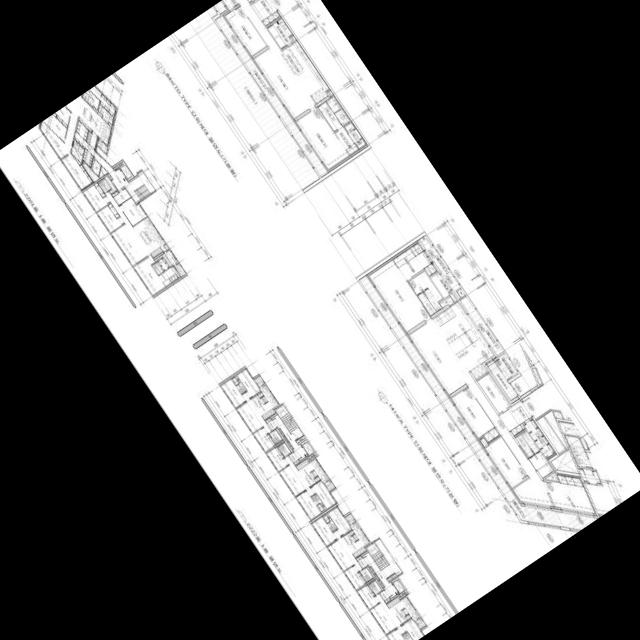space_balconi: (359, 275, 598, 530), (215, 15, 328, 177), (419, 235, 461, 299), (460, 296, 504, 356), (97, 138, 108, 154), (174, 263, 186, 277), (214, 1, 226, 14)
space_bedroom: (367, 258, 430, 333), (295, 107, 351, 172), (451, 387, 500, 443), (479, 437, 528, 488), (544, 473, 597, 515), (223, 6, 267, 56), (477, 373, 511, 413), (133, 255, 166, 296), (61, 154, 94, 190), (119, 197, 147, 226), (310, 481, 337, 510), (220, 378, 246, 408), (311, 516, 337, 546), (296, 491, 322, 521), (97, 206, 125, 233), (83, 185, 111, 212), (236, 368, 261, 398), (327, 506, 352, 536), (43, 113, 67, 142), (344, 565, 367, 590), (253, 427, 276, 452), (266, 447, 289, 471), (357, 585, 380, 609), (401, 619, 424, 640), (55, 106, 71, 128), (387, 629, 405, 640), (108, 203, 120, 218), (223, 0, 239, 11), (94, 183, 106, 197)
space_dressroom: (409, 240, 438, 276), (392, 247, 423, 280), (335, 128, 360, 157), (344, 122, 368, 151), (100, 94, 116, 118), (165, 266, 180, 282), (158, 258, 169, 271)
space_elevator: (391, 578, 408, 597), (300, 440, 317, 459), (118, 161, 134, 181)
space_elevator_hall: (95, 152, 155, 203), (363, 539, 402, 598), (272, 415, 307, 460)
space_front: (523, 418, 557, 460), (499, 399, 532, 436), (251, 0, 281, 26), (75, 131, 95, 156), (112, 188, 131, 205), (76, 121, 88, 141), (83, 148, 93, 168), (265, 418, 277, 431), (356, 556, 368, 569), (289, 452, 300, 465), (380, 590, 391, 603)
space_kitchen: (432, 301, 496, 380), (281, 41, 330, 104), (78, 98, 112, 146), (133, 217, 167, 258), (341, 522, 370, 558), (251, 384, 280, 420), (387, 596, 420, 625), (296, 458, 329, 487)
space_living_room: (408, 319, 554, 508), (237, 0, 316, 119), (105, 192, 150, 266), (40, 96, 82, 159), (327, 531, 362, 571), (370, 594, 405, 634), (279, 456, 314, 496), (237, 393, 271, 433)
space_multipurpose_space: (431, 272, 458, 302), (267, 18, 293, 49)
space_other: (522, 369, 572, 420), (488, 362, 517, 400), (537, 416, 566, 454), (544, 411, 568, 449), (551, 450, 579, 473), (98, 104, 114, 125), (84, 163, 100, 182), (162, 250, 178, 267), (86, 131, 98, 150), (105, 176, 117, 194), (532, 368, 542, 385), (440, 296, 454, 308), (92, 159, 101, 176), (276, 428, 285, 440), (99, 166, 108, 178), (545, 473, 558, 481), (375, 579, 384, 590), (93, 106, 102, 117), (367, 566, 375, 578), (285, 441, 293, 452), (73, 155, 81, 165), (553, 411, 563, 419), (457, 289, 465, 297), (387, 574, 396, 581), (296, 436, 305, 443), (155, 255, 162, 261), (290, 35, 296, 42), (327, 90, 333, 97), (288, 442, 293, 449), (370, 567, 375, 574), (279, 429, 284, 436), (379, 580, 384, 587), (108, 122, 113, 128), (258, 392, 263, 398), (284, 436, 289, 442), (349, 530, 354, 536), (375, 574, 380, 580), (107, 174, 112, 180), (164, 244, 169, 250), (315, 477, 320, 482), (406, 615, 411, 620), (323, 506, 327, 511), (113, 166, 118, 170), (234, 375, 238, 379), (325, 513, 329, 517), (307, 456, 310, 460), (398, 594, 401, 598)
space_outdoor_room: (496, 353, 518, 380), (324, 480, 335, 491), (345, 514, 356, 525), (254, 376, 265, 387), (415, 618, 426, 629)
space_staircase: (366, 543, 389, 570), (276, 405, 298, 432), (134, 184, 150, 200)
space_toilet: (408, 271, 443, 315), (318, 102, 342, 131), (529, 451, 553, 478), (521, 431, 540, 454), (516, 435, 534, 458), (83, 90, 100, 110), (334, 109, 350, 126), (326, 97, 341, 113), (278, 442, 291, 457), (369, 580, 382, 595), (269, 429, 282, 444), (72, 146, 83, 163), (89, 86, 102, 100), (98, 179, 111, 193), (360, 568, 373, 582), (159, 272, 171, 286), (327, 517, 337, 532), (236, 379, 246, 394), (312, 494, 324, 506), (155, 262, 164, 273), (152, 264, 161, 275), (402, 632, 413, 640), (78, 145, 84, 156), (73, 140, 79, 151), (232, 377, 239, 385), (323, 515, 330, 523), (317, 504, 324, 512)
